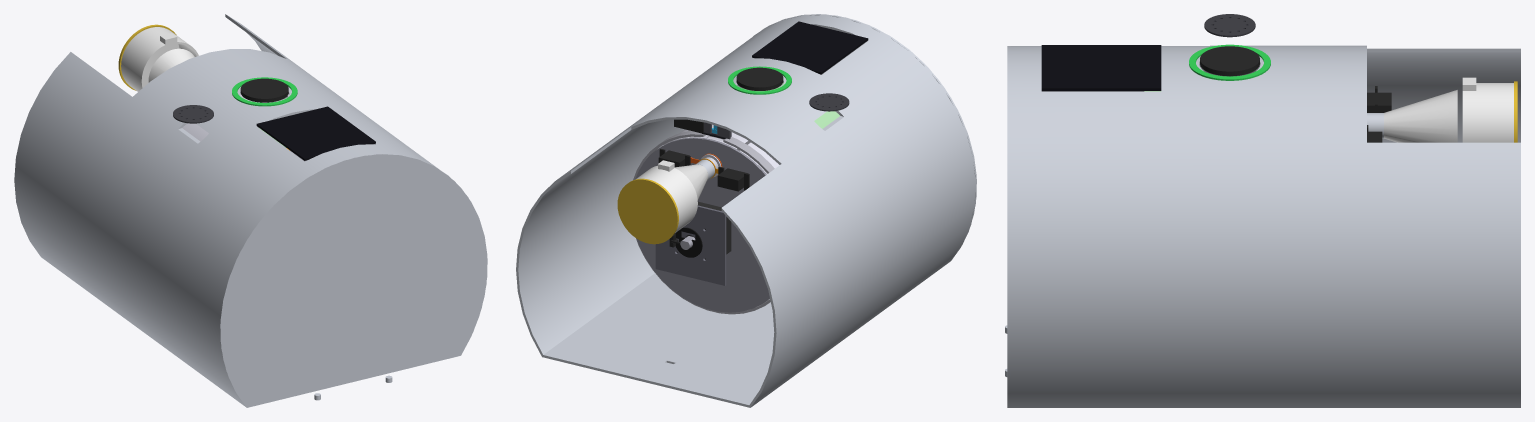
The model's file is hero_full_assembly.obj.
3 renders of one model, left to right at view 1: azimuth 30°, elevation 25°; view 2: azimuth 150°, elevation 25°; view 3: azimuth 270°, elevation 25°, orthographic. The views are drawn at different scales.
Visible parts, largest first — view 1: Body1, Body1:33, Body1:31, Body1:2, Body1:1, Body1:3, Body1:35, Body1:32; view 2: Body1, Body1:15, Body1:30, Body1:31, Body1:27, Body1:2, Body1:22, Body1:1, Body1:20, Body1:35, Body1:33, Body1:32 (+2 smaller); view 3: Body1, Body1:31, Body1:2, Body1:3, Body1:1, Body1:33, Body1:35, Body1:32, Body1:20.
Part boxes in pixels (box(x1,y1,x2,y2)): Body1: box(14, 14, 487, 407); Body1:33: box(219, 153, 487, 407); Body1:31: box(256, 106, 375, 160); Body1:2: box(121, 27, 198, 91); Body1:1: box(240, 78, 288, 102); Body1:3: box(148, 48, 194, 82); Body1:35: box(173, 105, 213, 123); Body1:32: box(232, 77, 297, 106); Body1: box(516, 14, 976, 407); Body1:15: box(635, 137, 769, 312); Body1:30: box(655, 205, 726, 285); Body1:31: box(752, 21, 868, 74); Body1:27: box(617, 178, 678, 244); Body1:2: box(636, 160, 697, 232); Body1:22: box(633, 131, 774, 314); Body1:1: box(736, 67, 783, 90); Body1:20: box(717, 166, 749, 191); Body1:35: box(809, 93, 849, 111); Body1:33: box(737, 14, 976, 261); Body1:32: box(728, 66, 791, 94); Body1: box(1007, 45, 1520, 407); Body1:31: box(1041, 45, 1161, 90); Body1:2: box(1462, 77, 1513, 142); Body1:3: box(1384, 90, 1457, 142); Body1:1: box(1200, 46, 1259, 76); Body1:33: box(1007, 46, 1010, 407); Body1:35: box(1204, 14, 1255, 37); Body1:32: box(1189, 44, 1270, 80); Body1:20: box(1367, 86, 1391, 112).
Bounding box in the file's own units: 1.12 × 0.951 × 1.51.
